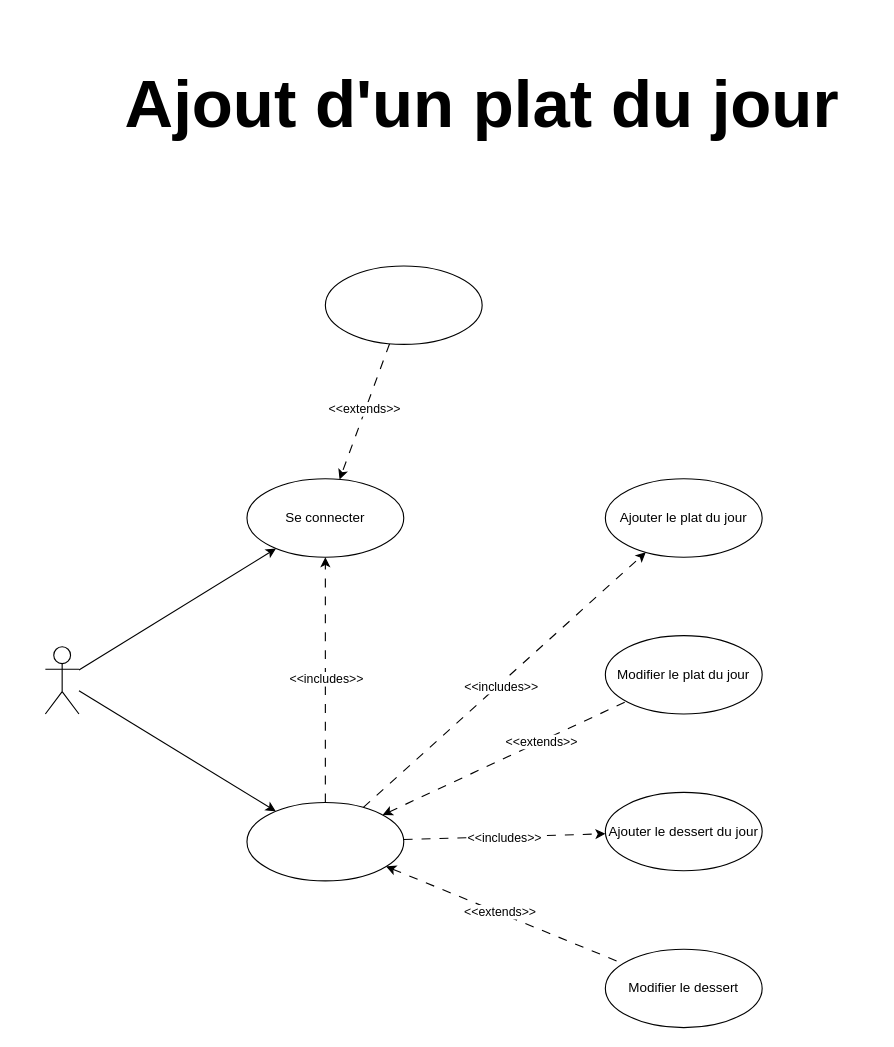
The diagram is 894 pixels wide and 1047 high, and some of its shapes have lost their labels. Here are the shapes that lost their labels. From the top down, the centre of each, then its label:
At [403,304]: "S'inscrire".
At [61,680]: "Administrateur".
At [325,841]: "Gérer les menus".
